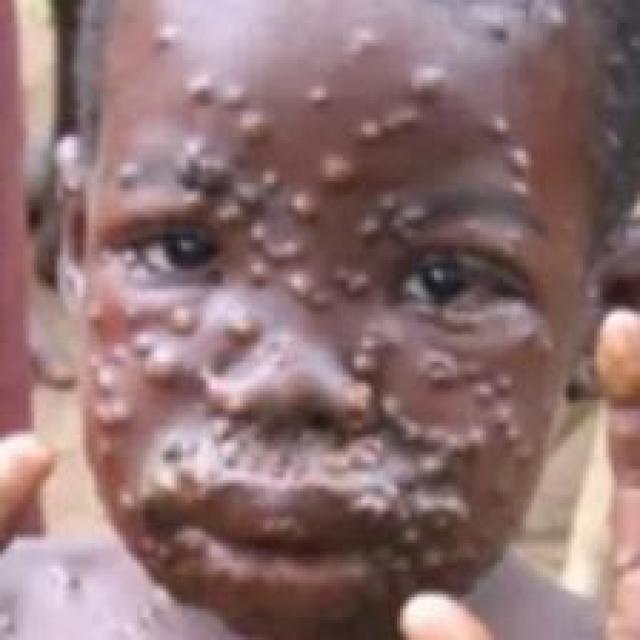monkeypox: (39, 0, 573, 602)
